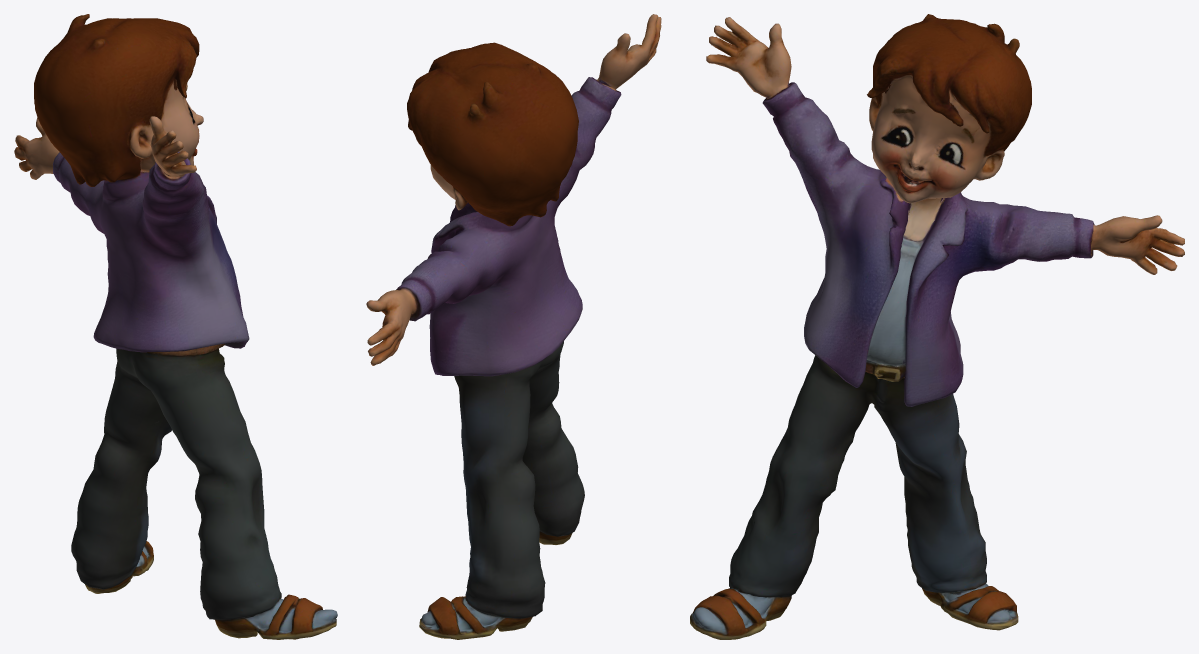
File: child-open-arms.glb
3 views of the same model, side by side, from view 1: azimuth 30°, elevation 25°; view 2: azimuth 150°, elevation 25°; view 3: azimuth 270°, elevation 25° (orthographic). The views are drawn at different scales.
Visible parts, largest first — view 1: tripo_node_b83ed95d-fcba-4405-b83b-d7fde346e647; view 2: tripo_node_b83ed95d-fcba-4405-b83b-d7fde346e647; view 3: tripo_node_b83ed95d-fcba-4405-b83b-d7fde346e647.
Boxes of the visible parts, <box> form: tripo_node_b83ed95d-fcba-4405-b83b-d7fde346e647: <box>14,14,337,639</box>; tripo_node_b83ed95d-fcba-4405-b83b-d7fde346e647: <box>366,14,661,639</box>; tripo_node_b83ed95d-fcba-4405-b83b-d7fde346e647: <box>690,14,1184,639</box>.
Size of the model in its own units: 0.3288 by 1 by 0.773.
1 material, 1 textured.
